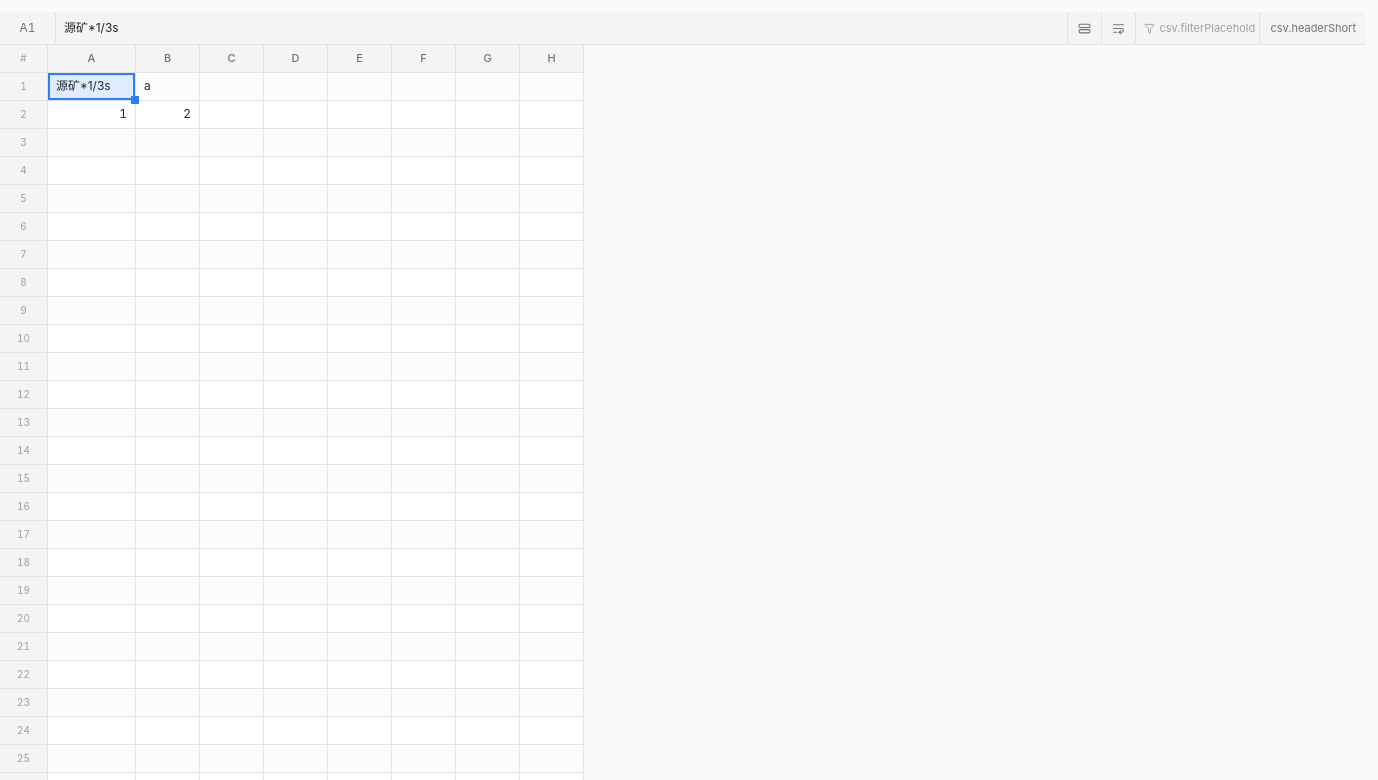
Scenario: CsvGridEditor 单元格编辑与编辑栏 › 双击进入编辑：拖选收尾的 rAF 不得抢走编辑框焦点（闪现即关的根因）
Step 1. Double-click the element with test id "csv-cell-0-0" → (92, 87), box [48,73,136,101]
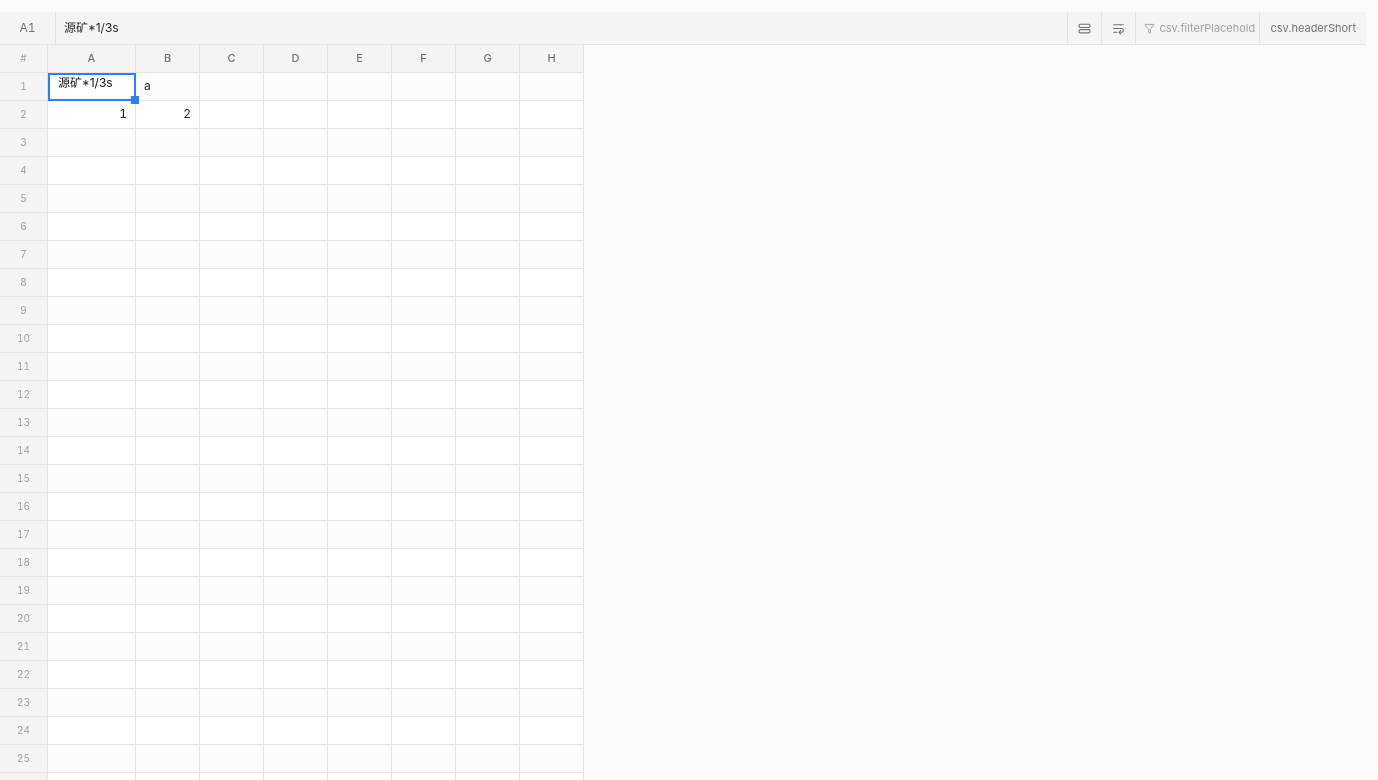
Now the text box with test id "csv-edit-input" is shown, box [48,73,136,101]
